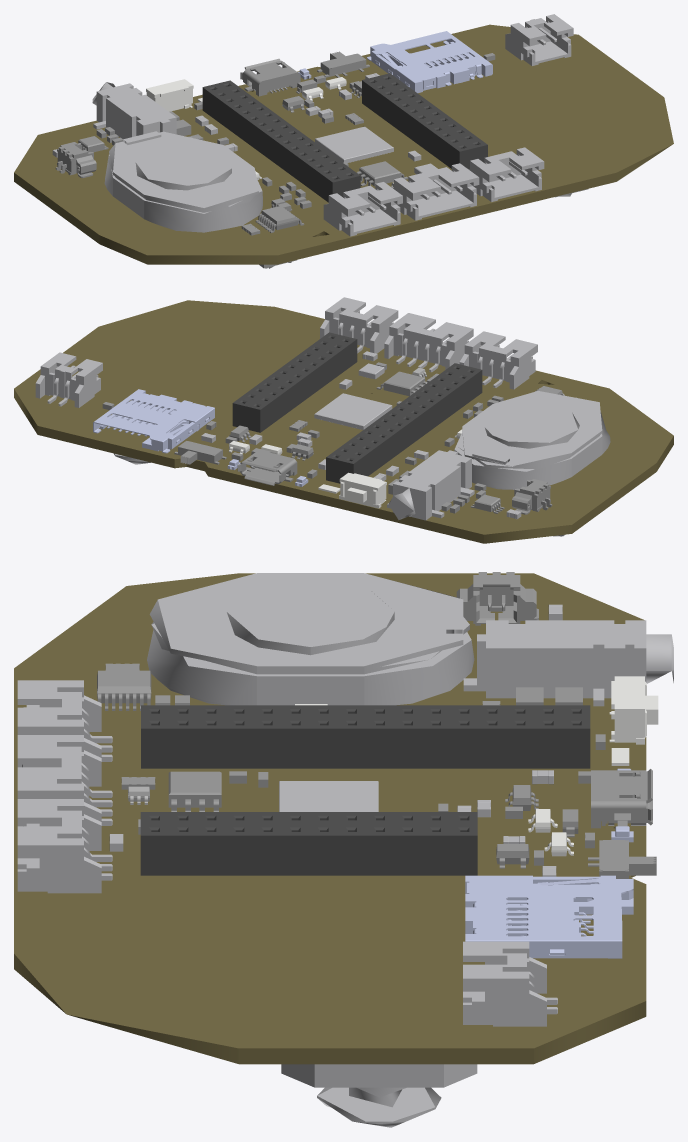
The model's file is ada-4242.glb.
3 views of the same model, one above another, from view 1: azimuth 30°, elevation 25°; view 2: azimuth 150°, elevation 25°; view 3: azimuth 270°, elevation 25° (orthographic). The views are drawn at different scales.
Visible parts, largest first — view 1: 0.16666666666666666_0.16666666666666666_0.08333333333333333_, 0.5833333333333334_0.5833333333333334_0.5833333333333334_0.8, 0.08333333333333333_0.08333333333333333_0.08333333333333333_, 0.3333333333333333_0.3333333333333333_0.3333333333333333_0, 0.5833333333333334_0.6666666666666666_0.8333333333333334_0, 0.9166666666666666_0.9166666666666666_0.9166666666666666_0.8; view 2: 0.16666666666666666_0.16666666666666666_0.08333333333333333_, 0.5833333333333334_0.5833333333333334_0.5833333333333334_0.8, 0.08333333333333333_0.08333333333333333_0.08333333333333333_, 0.3333333333333333_0.3333333333333333_0.3333333333333333_0, 0.5833333333333334_0.6666666666666666_0.8333333333333334_0, 0.9166666666666666_0.9166666666666666_0.9166666666666666_0.8; view 3: 0.16666666666666666_0.16666666666666666_0.08333333333333333_, 0.5833333333333334_0.5833333333333334_0.5833333333333334_0.8, 0.08333333333333333_0.08333333333333333_0.08333333333333333_, 0.3333333333333333_0.3333333333333333_0.3333333333333333_0, 0.5833333333333334_0.6666666666666666_0.8333333333333334_0, 0.9166666666666666_0.9166666666666666_0.9166666666666666_0.8.
Boxes of the visible parts, x1,y1,x2,y2 form: 0.16666666666666666_0.16666666666666666_0.08333333333333333_: (14,24,673,264); 0.5833333333333334_0.5833333333333334_0.5833333333333334_0.8: (52,14,573,236); 0.08333333333333333_0.08333333333333333_0.08333333333333333_: (202,73,487,202); 0.3333333333333333_0.3333333333333333_0.3333333333333333_0: (55,51,588,268); 0.5833333333333334_0.6666666666666666_0.8333333333333334_0: (298,31,492,93); 0.9166666666666666_0.9166666666666666_0.9166666666666666_0.8: (146,77,346,179); 0.16666666666666666_0.16666666666666666_0.08333333333333333_: (14,300,673,543); 0.5833333333333334_0.5833333333333334_0.5833333333333334_0.8: (35,297,610,520); 0.08333333333333333_0.08333333333333333_0.08333333333333333_: (232,332,482,483); 0.3333333333333333_0.3333333333333333_0.3333333333333333_0: (102,362,564,536); 0.5833333333333334_0.6666666666666666_0.8333333333333334_0: (93,389,308,486); 0.9166666666666666_0.9166666666666666_0.9166666666666666_0.8: (228,429,462,508); 0.16666666666666666_0.16666666666666666_0.08333333333333333_: (14,573,646,1064); 0.5833333333333334_0.5833333333333334_0.5833333333333334_0.8: (17,573,673,1127); 0.08333333333333333_0.08333333333333333_0.08333333333333333_: (140,705,590,875); 0.3333333333333333_0.3333333333333333_0.3333333333333333_0: (97,572,656,878); 0.5833333333333334_0.6666666666666666_0.8333333333333334_0: (465,768,633,958); 0.9166666666666666_0.9166666666666666_0.9166666666666666_0.8: (295,676,658,856).
Size of the model in its own units: 10.16 by 1.81 by 5.96.
